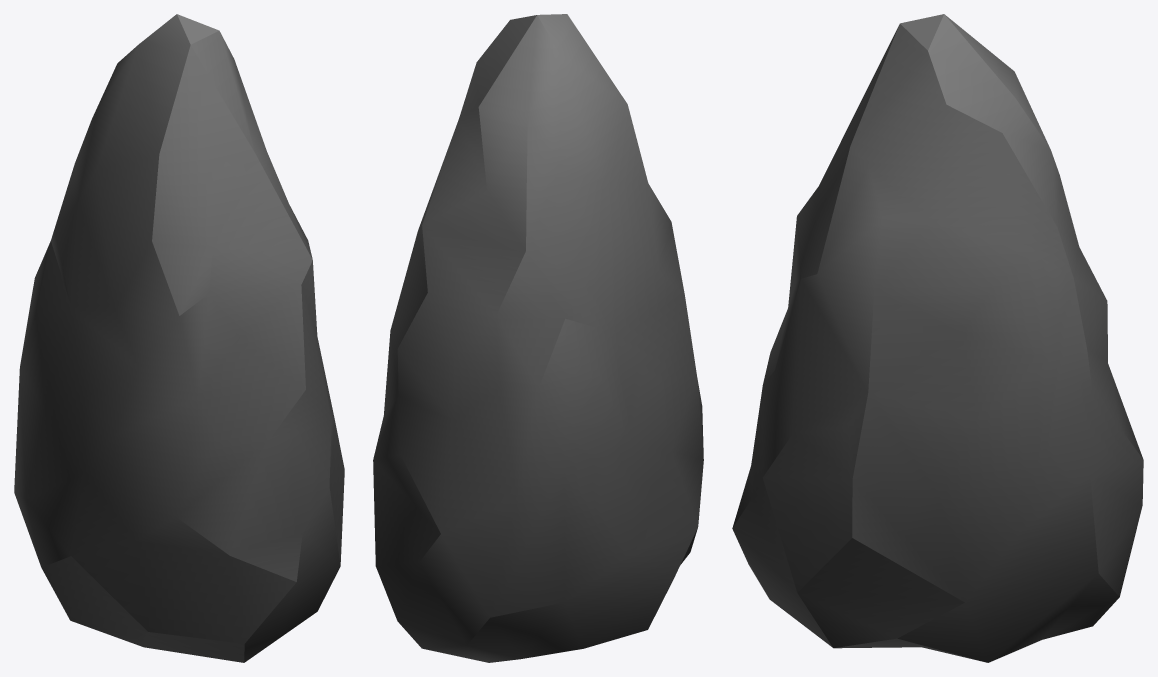
Rendered from Rock_01.fbx.
The picture shows the model from 3 angles, left to right: view 1: azimuth 30°, elevation 25°; view 2: azimuth 150°, elevation 25°; view 3: azimuth 270°, elevation 25°; orthographic projection. The views are drawn at different scales.
Parts seen in each view (by area): view 1: rock; view 2: rock; view 3: rock.
Boxes of the visible parts, x1,y1,x2,y2 form: rock: [14, 14, 344, 662]; rock: [373, 14, 703, 662]; rock: [732, 14, 1143, 662].
Size of the model in its own units: 269 by 591 by 361.
